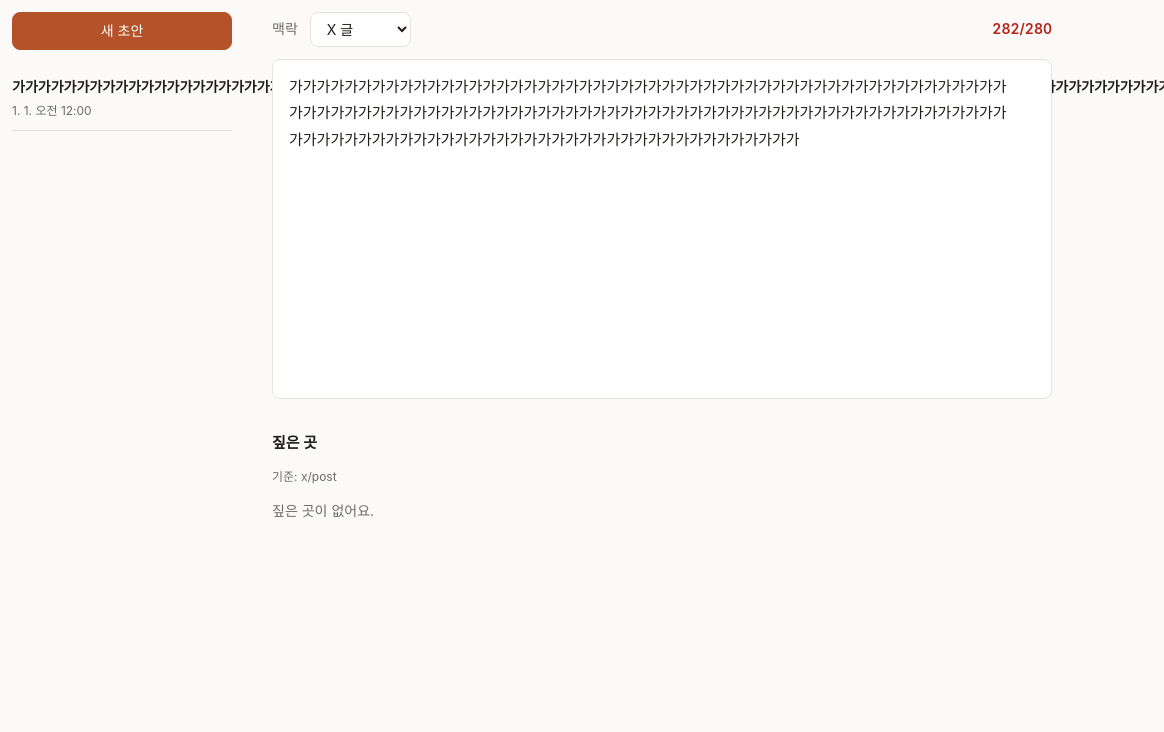
Test: Write › marks the counter over 280 and hides it outside X
Expected: the text box named "초안 본문" is shown, [272,59,1052,399]
Expected: the text with test id "x-counter" reads "282/280", [992,20,1052,37]
Step 1. Select "블로그" in the dropdown labelled "맥락" → (360, 30), box [310,12,411,47]
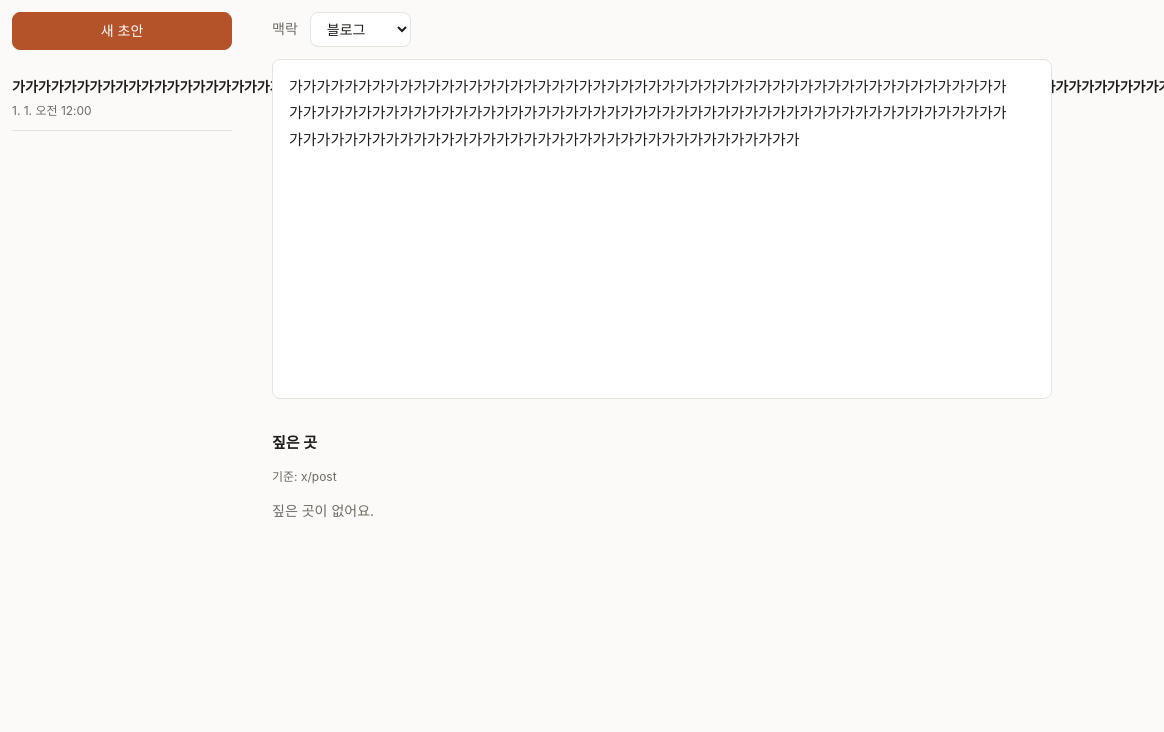
Result: the text with test id "x-counter" is gone
